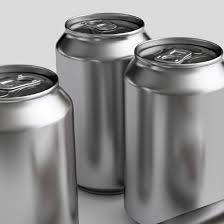can: (1, 10, 224, 224)
